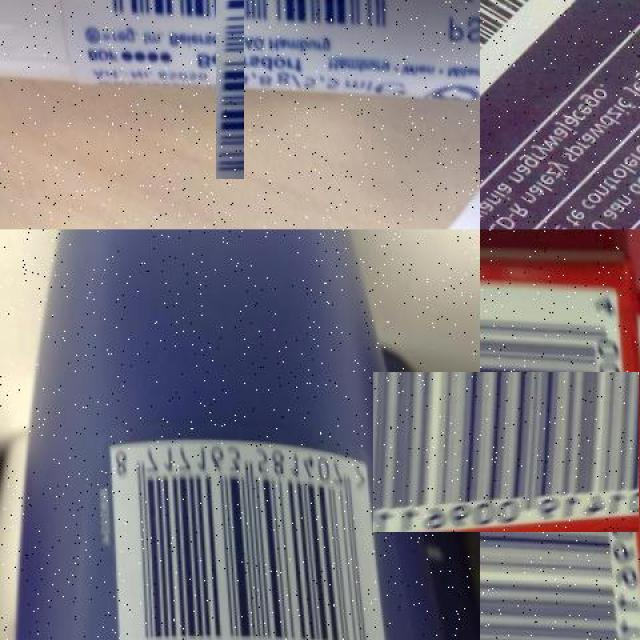Barcode: (104, 428, 381, 640), (426, 318, 640, 586), (480, 0, 612, 153), (140, 0, 319, 104)
